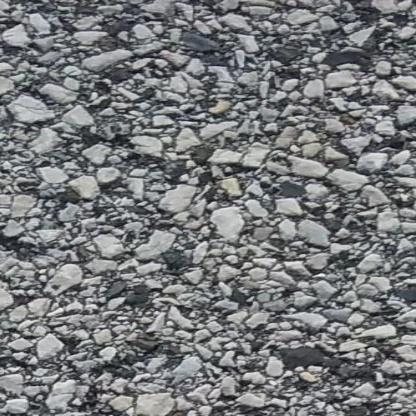Cracks: (69, 281, 175, 416), (0, 226, 48, 262)
